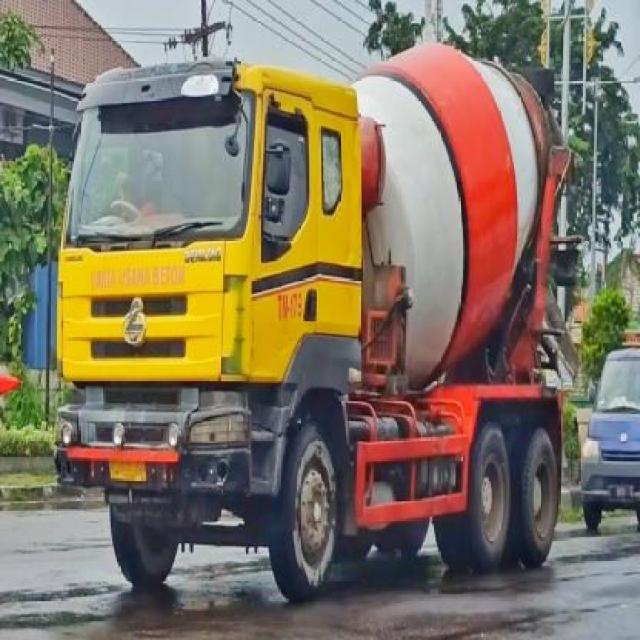truck: (52, 37, 573, 608)
